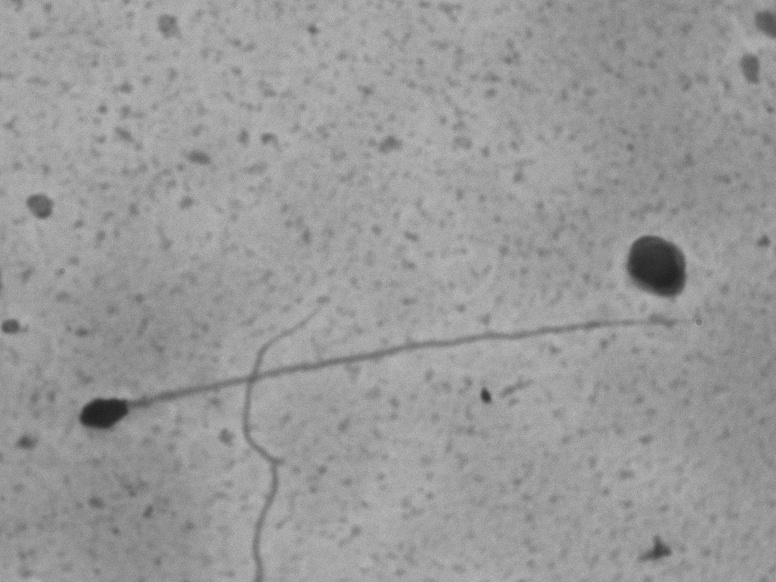Abnormal: (73, 316, 711, 440)
